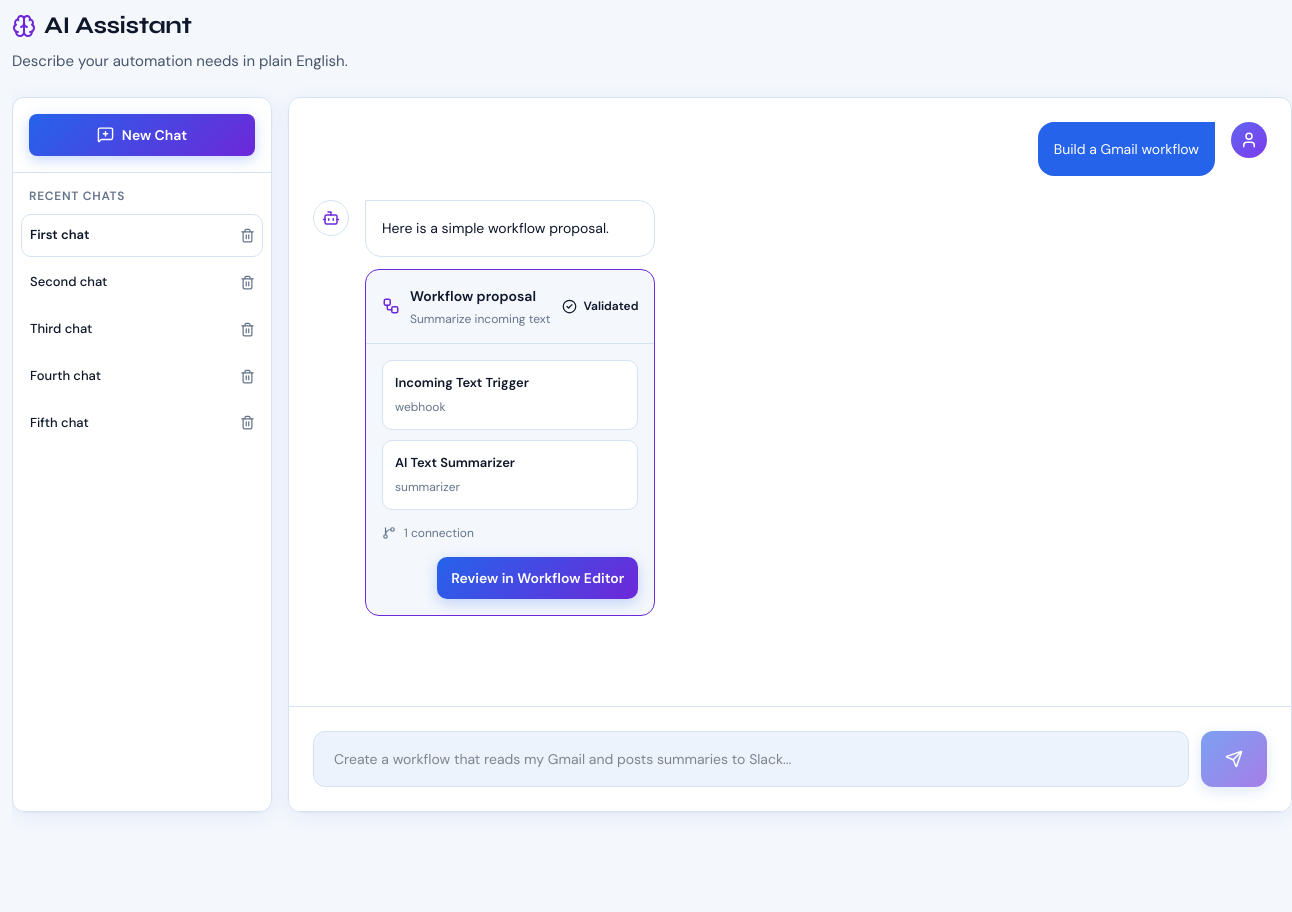
it: Assistant conversation persistence and chat management › deletes the current conversation and returns to clean New Chat state
Expected: the text "First chat" is shown, x1=30 y1=226 x2=89 y2=243
Click the button named "Delete First chat" at (248, 236), box x1=233 y1=221 x2=262 y2=250
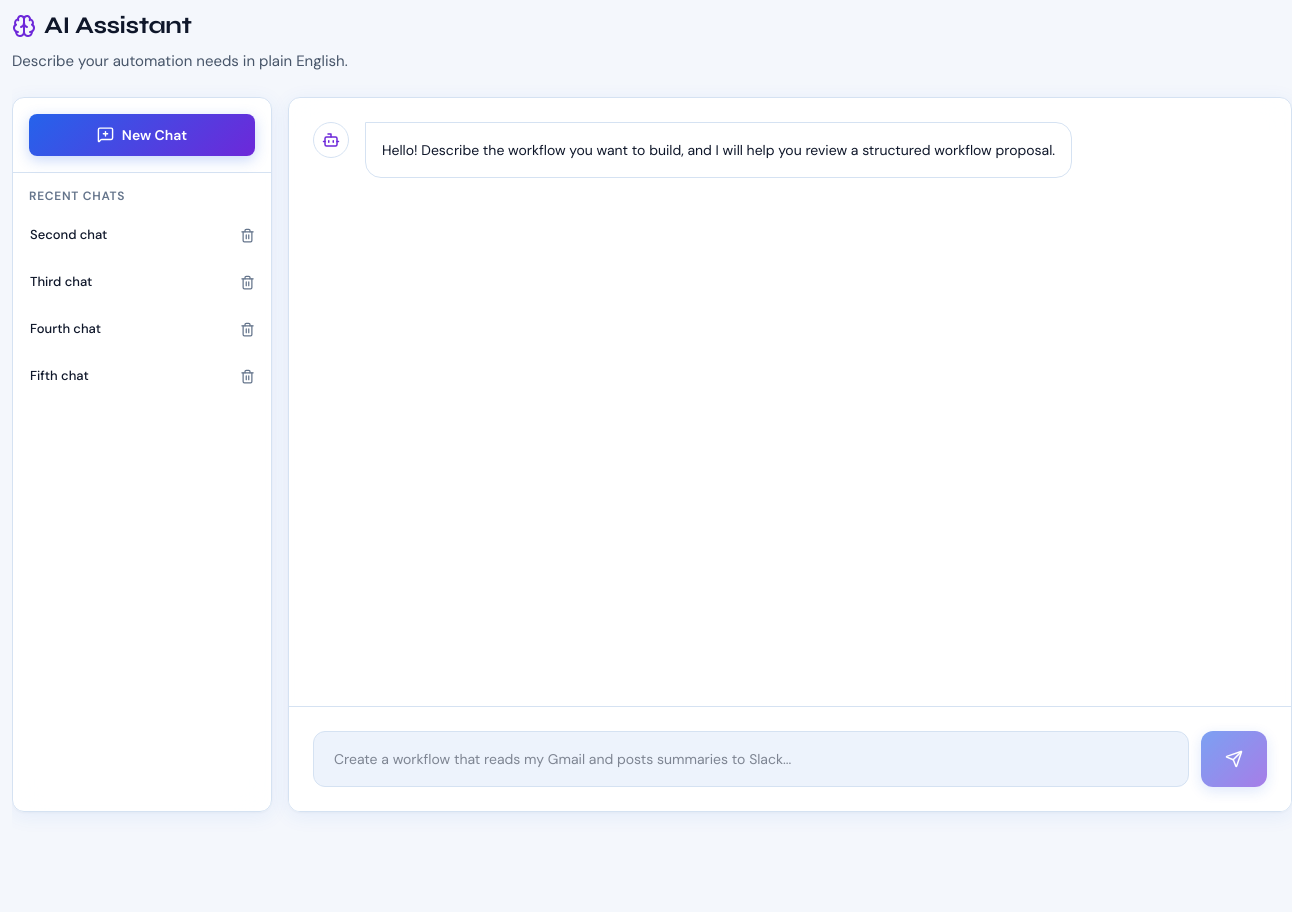
Result: the text "Hello! Describe the workflow you want to build, and I will help you review a structured workflow proposal." is shown at x1=382 y1=141 x2=1055 y2=159
